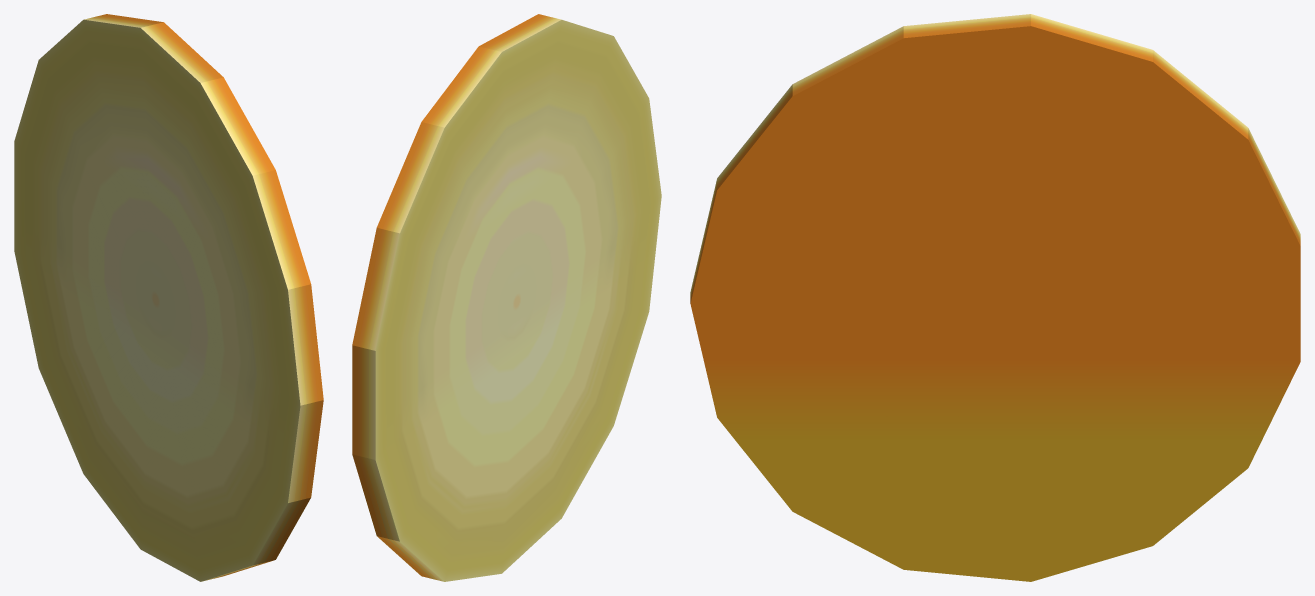
The model's file is my_ariussummer_01_wallacc_01.glb.
The picture shows the model from 3 angles, left to right: view 1: azimuth 30°, elevation 25°; view 2: azimuth 150°, elevation 25°; view 3: azimuth 270°, elevation 25°; orthographic projection. The views are drawn at different scales.
Parts seen in each view (by area): view 1: my_ariussummer_01_wallacc_01; view 2: my_ariussummer_01_wallacc_01; view 3: my_ariussummer_01_wallacc_01.
Part boxes in pixels (x1,y1,x2,y2): my_ariussummer_01_wallacc_01: (14,14,323,581); my_ariussummer_01_wallacc_01: (352,14,661,581); my_ariussummer_01_wallacc_01: (690,14,1300,581).
Size of the model in its own units: 0.000199 by 0.00426 by 0.00424.
Materials: 1 (1 with a texture image).
